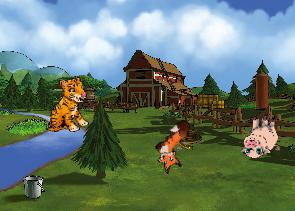fox: (145, 116, 206, 177)
pig: (240, 115, 280, 158)
tiger: (39, 75, 94, 137)
